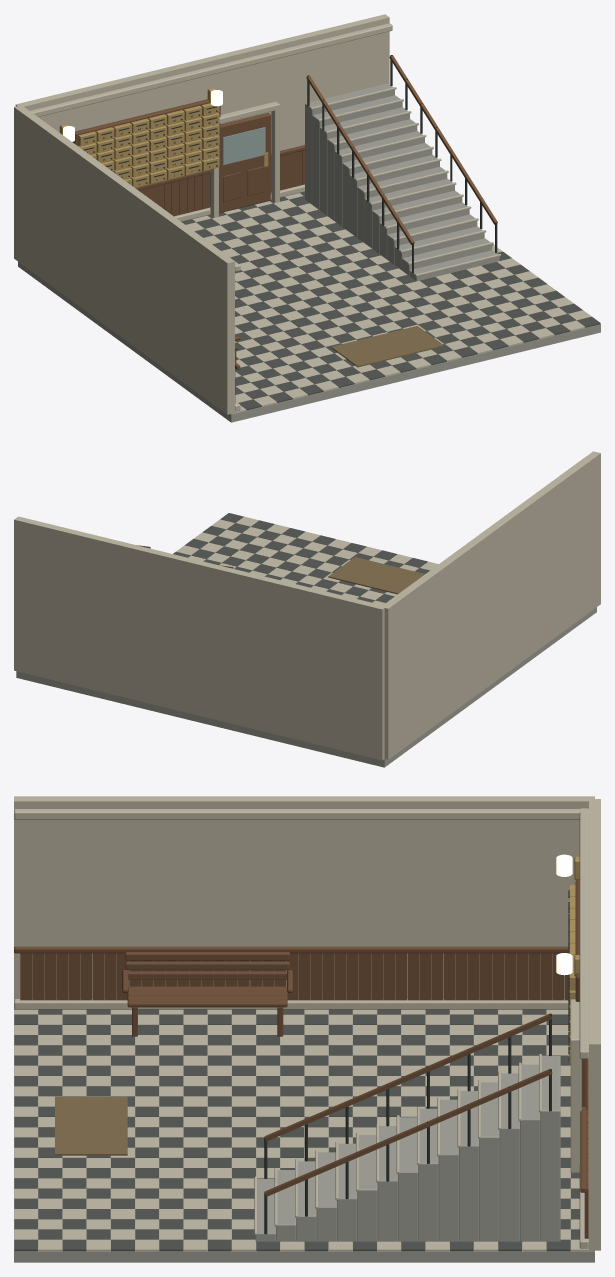
Rendered from interior-mercer-court.glb.
3 renders of one model, top to bottom at view 1: azimuth 30°, elevation 25°; view 2: azimuth 150°, elevation 25°; view 3: azimuth 270°, elevation 25°, orthographic. The views are drawn at different scales.
Parts seen in each view (by area): view 1: west plaster wall, terrazzo tile, foundation, terrazzo tile.001, rear plaster wall, individual letterbox, rear tongue groove board, rear moulding, entrance mat, stair handrail, door frosted pane, stair baluster (+1 smaller); view 2: rear plaster wall, west plaster wall, terrazzo tile.001, terrazzo tile, foundation, entrance mat; view 3: west plaster wall, terrazzo tile, terrazzo tile.001, foundation, west tongue groove board, stair handrail, west moulding, rear plaster wall, rear moulding, entrance mat, stair baluster, rear tongue groove board (+1 smaller).
Part boxes in pixels (x1,y1,x2,y2): west plaster wall: [14, 105, 234, 414]; terrazzo tile: [186, 87, 591, 414]; foundation: [18, 83, 600, 422]; terrazzo tile.001: [182, 191, 600, 410]; rear plaster wall: [15, 14, 389, 152]; individual letterbox: [59, 87, 268, 187]; rear tongue groove board: [73, 99, 304, 216]; rear moulding: [30, 23, 392, 221]; entrance mat: [331, 326, 443, 367]; stair handrail: [235, 55, 497, 369]; door frosted pane: [222, 127, 265, 164]; stair baluster: [307, 55, 497, 273]; rear plaster wall: [14, 516, 386, 760]; west plaster wall: [383, 451, 600, 759]; terrazzo tile.001: [173, 513, 429, 759]; terrazzo tile: [176, 516, 438, 605]; foundation: [16, 607, 596, 767]; entrance mat: [328, 557, 424, 594]; west plaster wall: [14, 796, 594, 999]; terrazzo tile: [14, 1009, 594, 1251]; terrazzo tile.001: [14, 1009, 579, 1251]; foundation: [14, 1009, 594, 1262]; west tongue groove board: [14, 946, 568, 1000]; stair handrail: [122, 952, 552, 1196]; west moulding: [14, 809, 588, 1009]; rear plaster wall: [589, 799, 600, 1250]; rear moulding: [570, 808, 588, 1248]; entrance mat: [55, 1096, 127, 1155]; stair baluster: [264, 1013, 551, 1234]; rear tongue groove board: [575, 880, 588, 1238].
Bounding box in the file's own units: 12.12 × 4.97 × 12.12.
